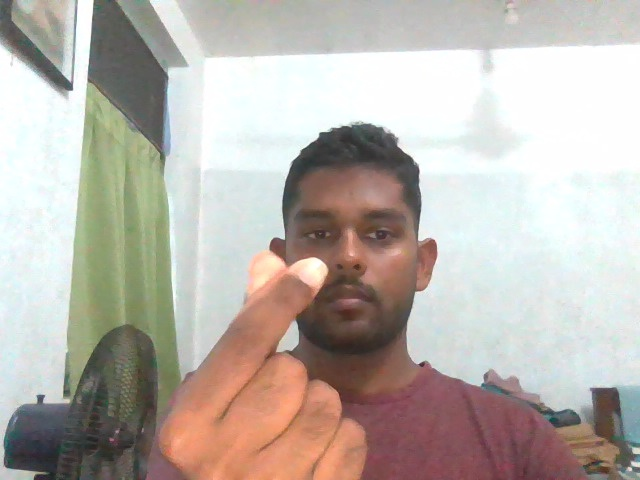iloveyou: (155, 245, 375, 480)
